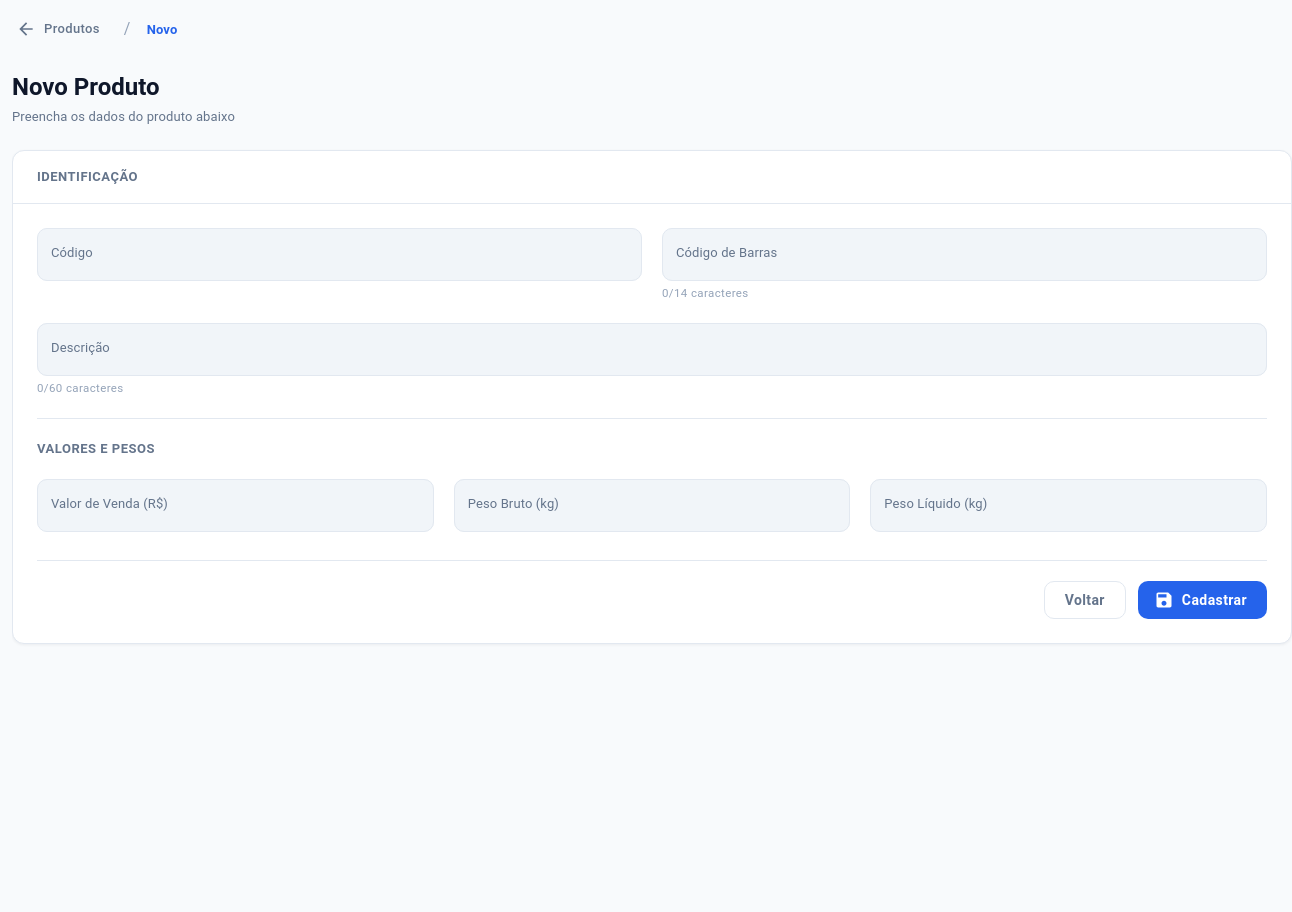
it: ProdutoForm validation › shows codigo error for zero or negative
The width and height of the screenshot is (1292, 912).
In the number field named "codigo": (340, 254) [37,228,642,281], type "0"
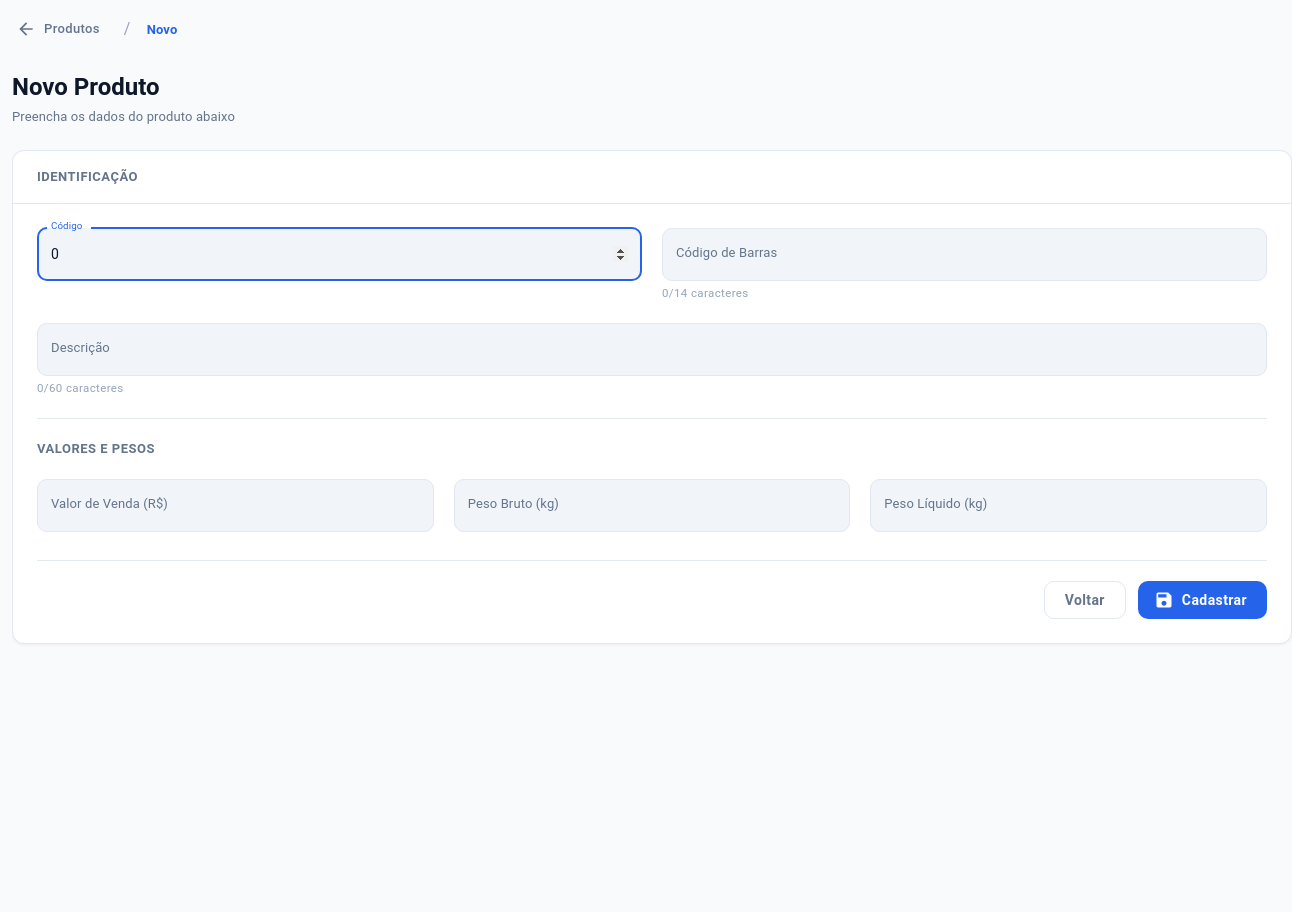
Click the button "Cadastrar": (1202, 600) [1138,581,1267,619]
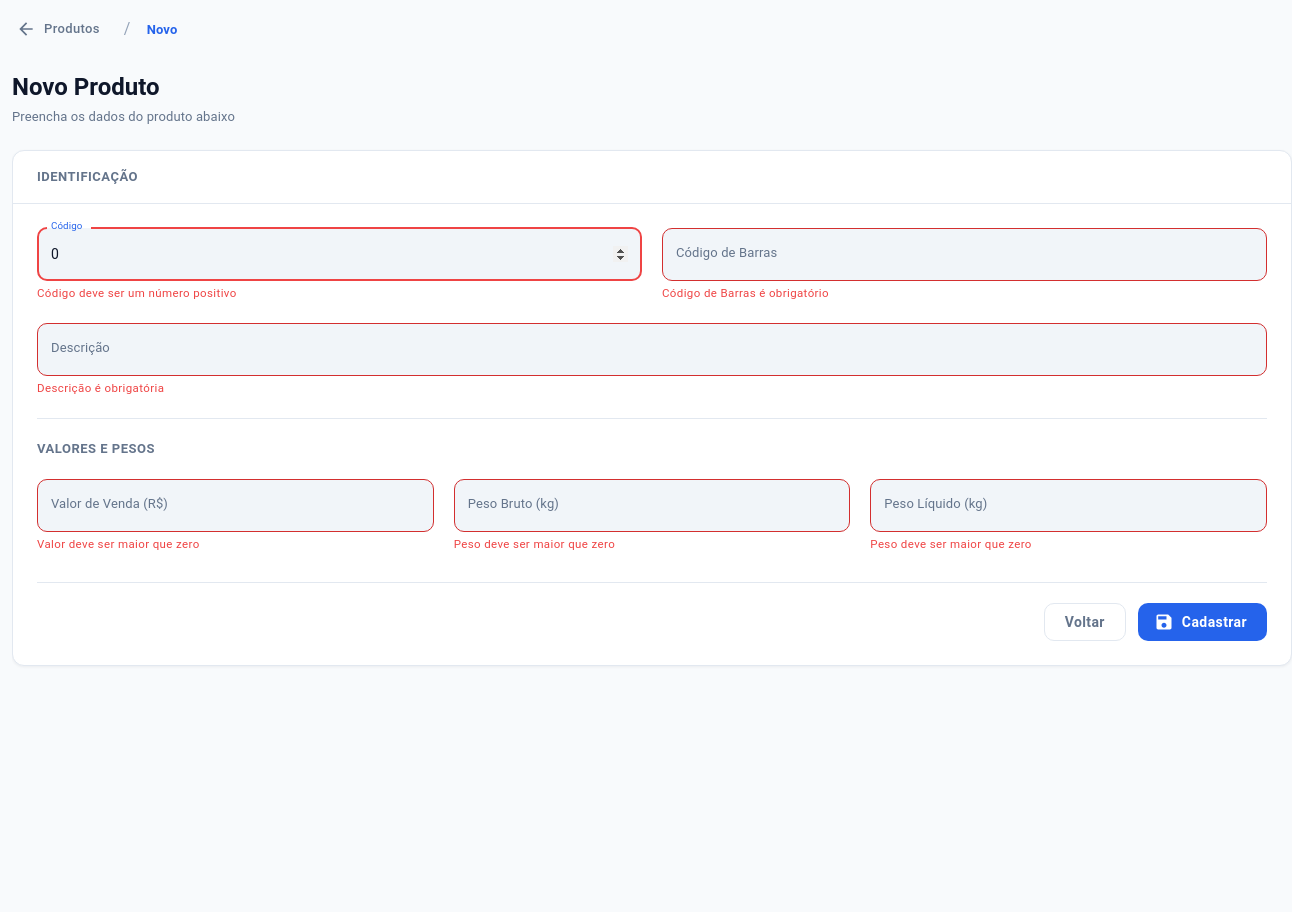
Expected: the text "Código deve ser um número positivo" is shown, [37,286,237,300]
